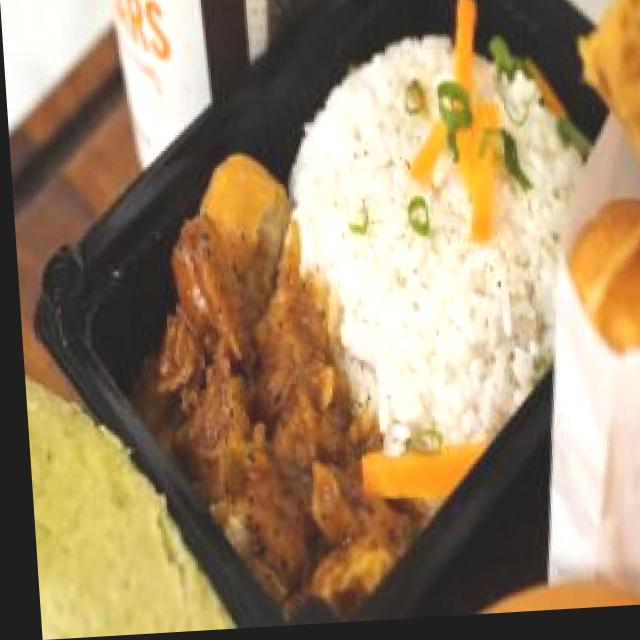black pepper rice bowl: (125, 0, 588, 622)
